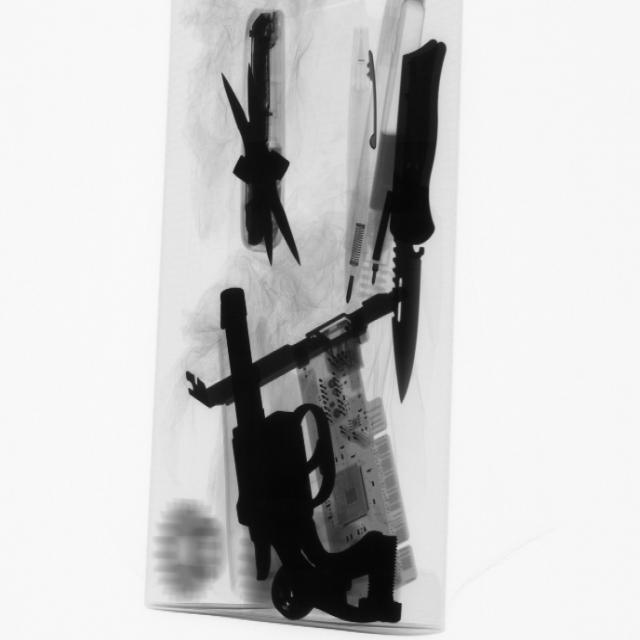GUN: (217, 281, 391, 630)
KNIFE: (372, 28, 453, 398)
SHURIKEN: (221, 39, 307, 284)
